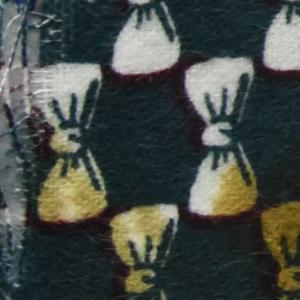Damage: (1, 1, 57, 300)
Stain: (32, 124, 166, 300), (213, 157, 300, 300)
